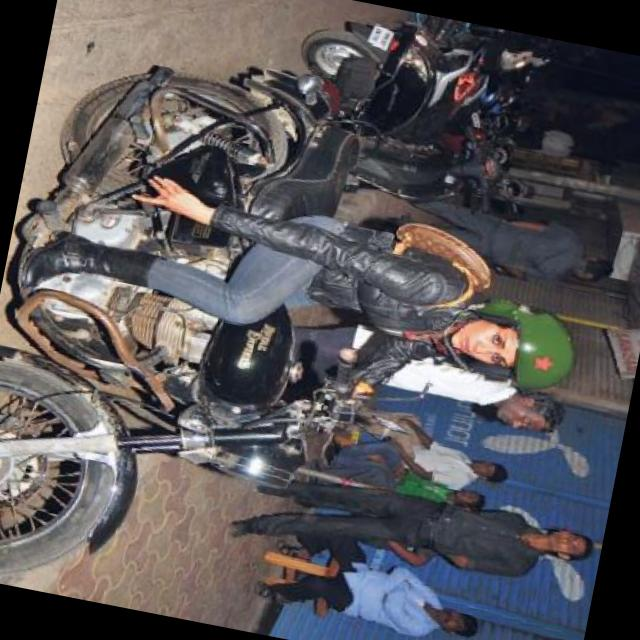With Helmet: (456, 290, 585, 398)
